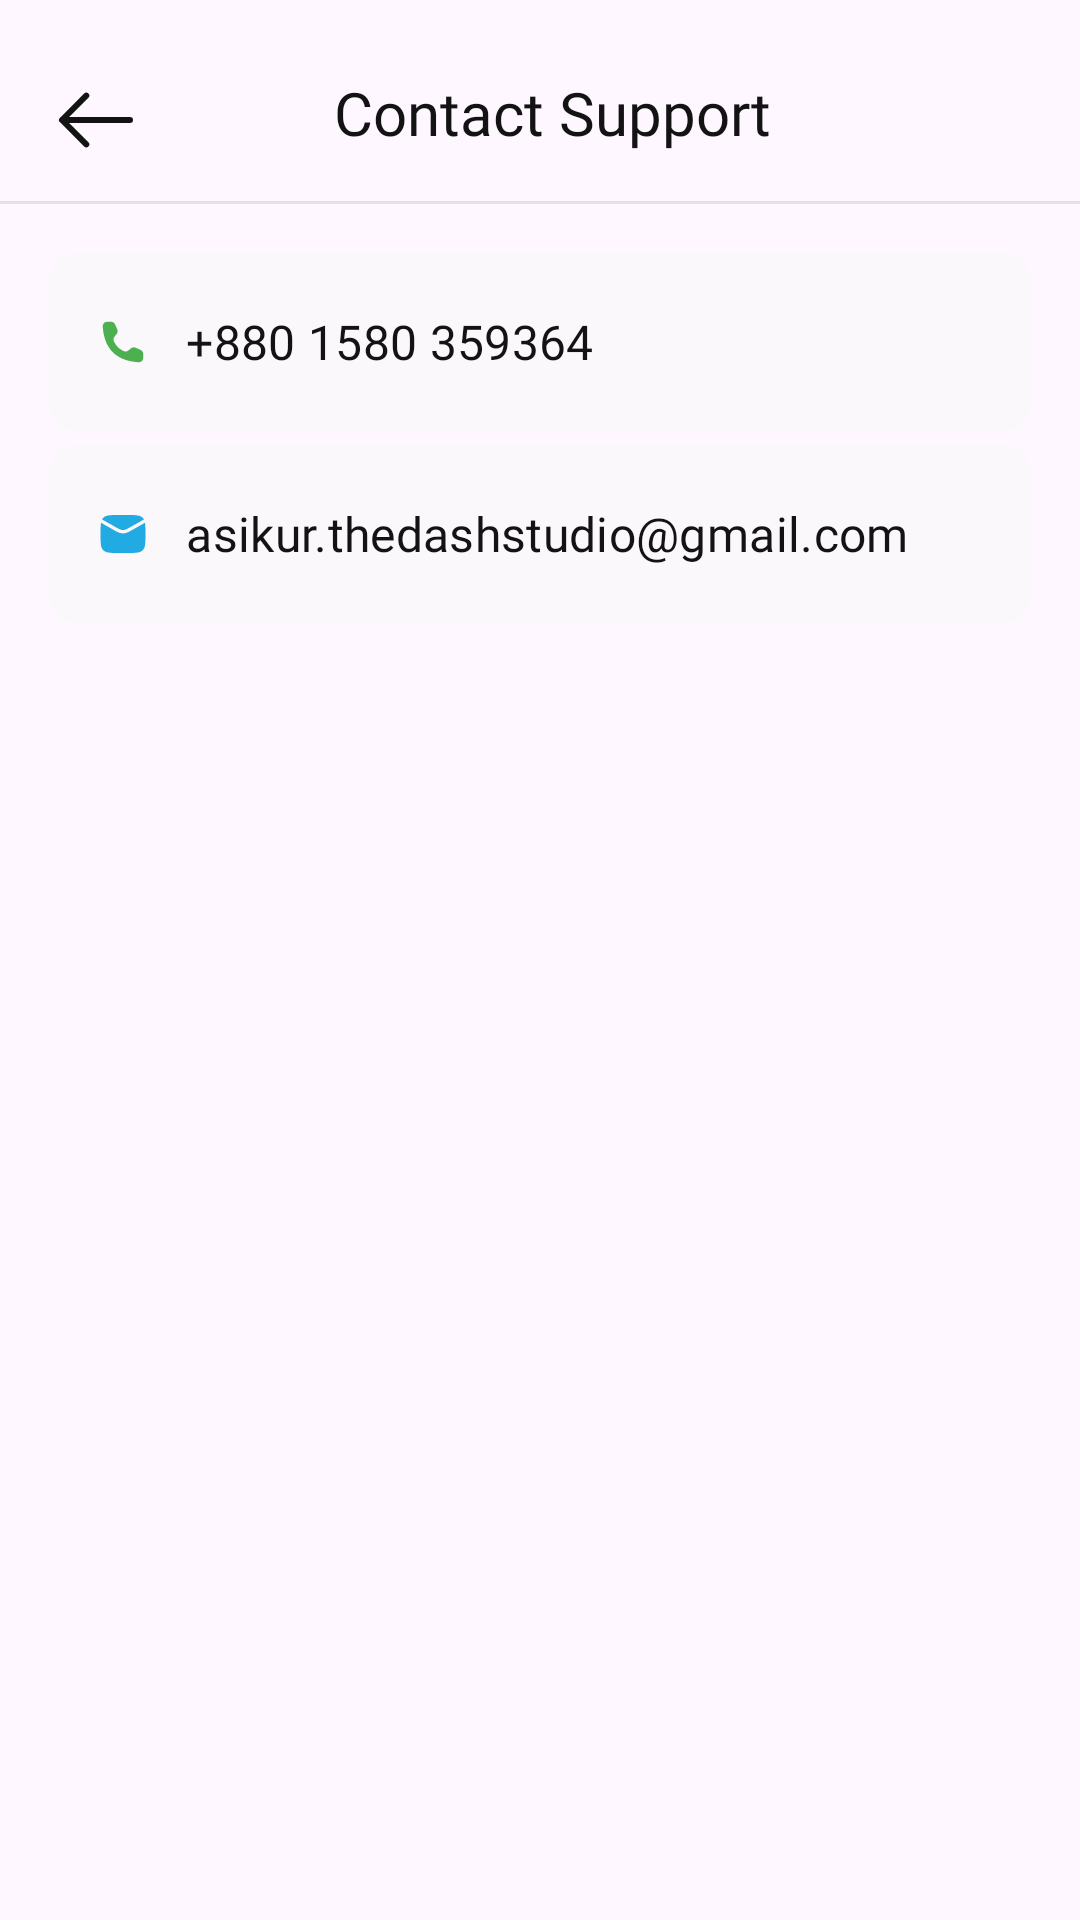

Named icons in this screenshot (1080w x 1920h) and their bounding boxes, (x1, y1, x2, y2):
back: (59, 92, 133, 148)
